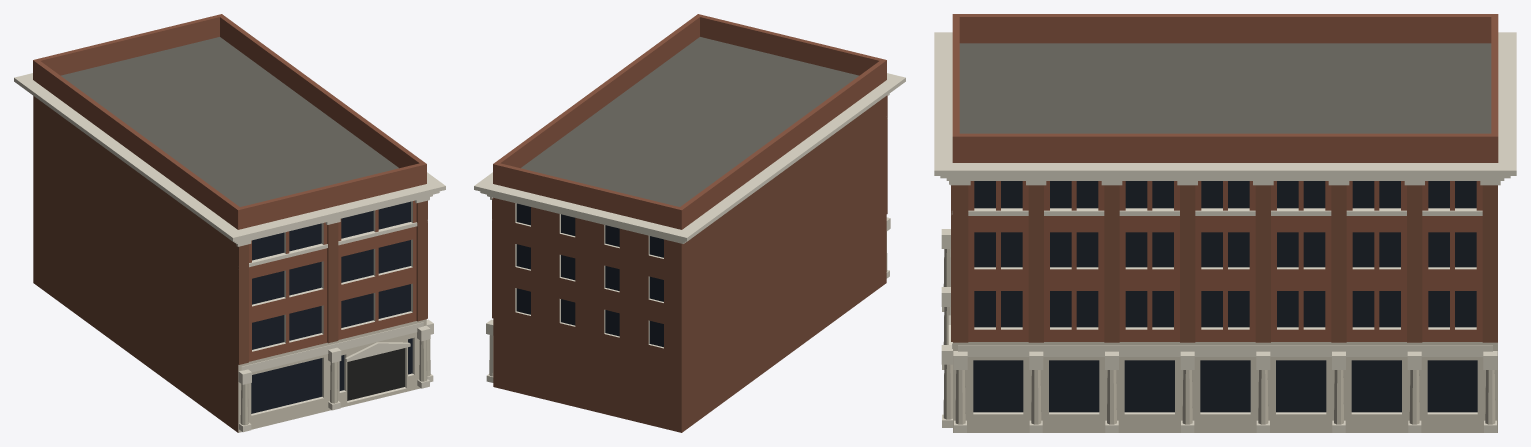
Rendered from commercial-national-bank-1961.glb.
3 views of the same model, side by side, from view 1: azimuth 30°, elevation 25°; view 2: azimuth 150°, elevation 25°; view 3: azimuth 270°, elevation 25° (orthographic). The views are drawn at different scales.
Parts seen in each view (by area): view 1: commercial_brick2, commercial_roof, commercial_brick, commercial_glass, commercial_trim, commercial_stone, commercial_sash, commercial_dark; view 2: commercial_brick2, commercial_roof, commercial_brick, commercial_trim, commercial_glass; view 3: commercial_brick, commercial_glass, commercial_roof, commercial_trim, commercial_stone, commercial_brick2, commercial_sash.
Part boxes in pixels (<box>): commercial_brick2: <box>33,96,427,432</box>; commercial_roof: <box>61,37,398,206</box>; commercial_brick: <box>33,14,426,361</box>; commercial_glass: <box>251,201,412,413</box>; commercial_trim: <box>14,73,445,432</box>; commercial_stone: <box>238,319,430,432</box>; commercial_sash: <box>251,201,414,415</box>; commercial_dark: <box>347,348,404,400</box>; commercial_brick2: <box>492,95,887,432</box>; commercial_roof: <box>521,37,858,206</box>; commercial_brick: <box>493,14,886,229</box>; commercial_trim: <box>474,73,905,382</box>; commercial_glass: <box>516,203,663,347</box>; commercial_brick: <box>952,14,1498,341</box>; commercial_glass: <box>973,181,1477,412</box>; commercial_roof: <box>959,43,1491,133</box>; commercial_trim: <box>934,32,1516,432</box>; commercial_stone: <box>943,249,1497,432</box>; commercial_brick2: <box>951,185,1497,342</box>; commercial_sash: <box>973,208,1477,414</box>.
Bounding box in the file's own units: 19.2 × 19.2 × 34.2.
